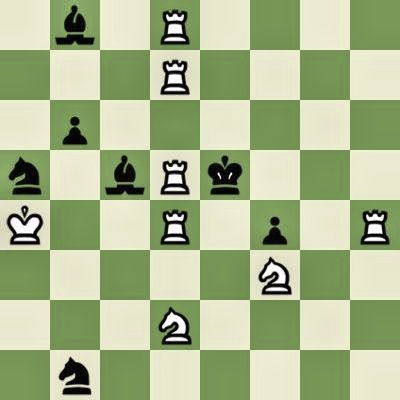black-bishop: (50, 0, 100, 50), (100, 150, 150, 200)
black-king: (200, 150, 250, 200)
black-knight: (0, 150, 50, 200), (50, 350, 100, 400)
black-pawn: (50, 100, 100, 150), (250, 200, 300, 250)
white-king: (0, 200, 50, 250)
white-knight: (250, 250, 300, 300), (150, 300, 200, 350)
white-rook: (150, 0, 200, 50), (150, 50, 200, 100), (150, 150, 200, 200), (150, 200, 200, 250), (350, 200, 400, 250)
